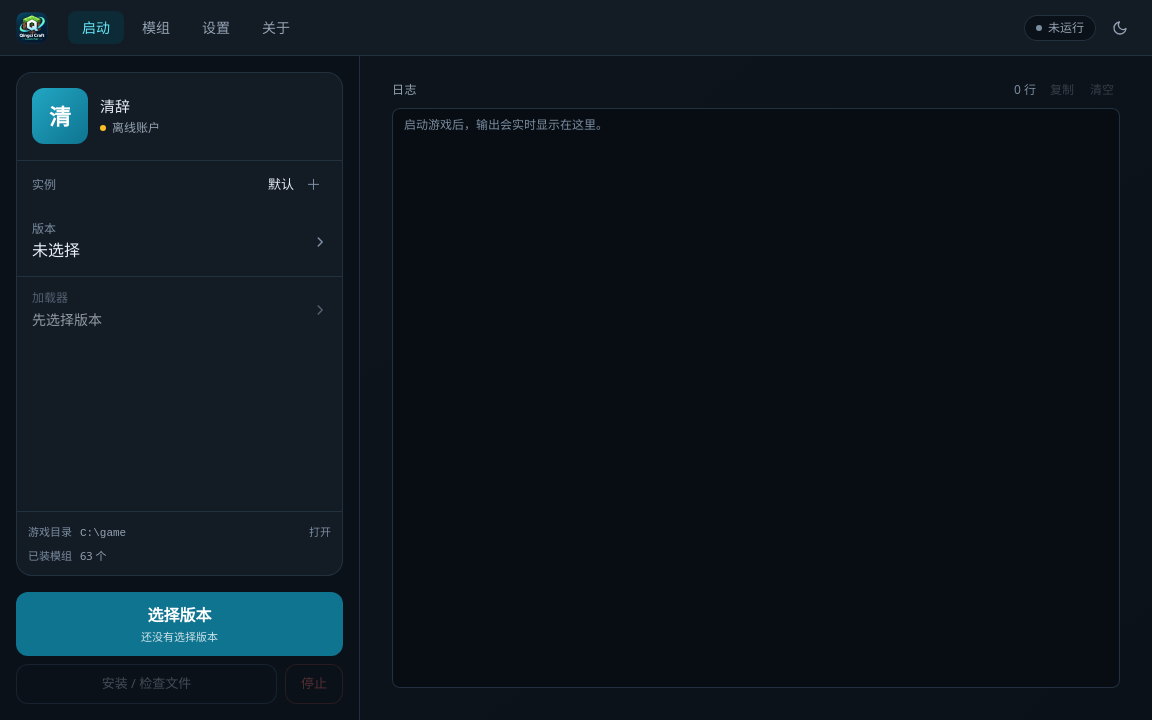
Test: LauncherView › 版本清单加载失败时，选择器说明原因并可重试，而不是假装还在加载
Step 1. Click the button with aria-label "更换版本" → [56, 252], box [16,208,343,276]
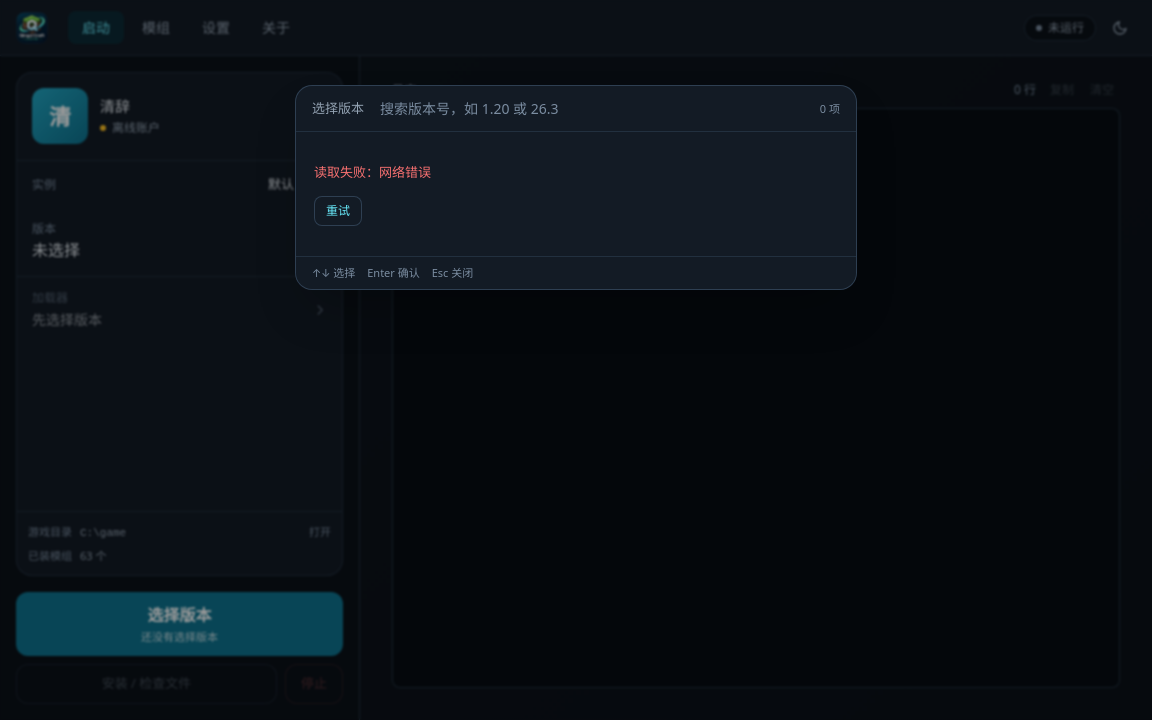
expect the text "读取失败：网络错误" is shown: met, box [314,163,431,181]
expect the button "重试" is shown: met, box [314,196,362,226]
